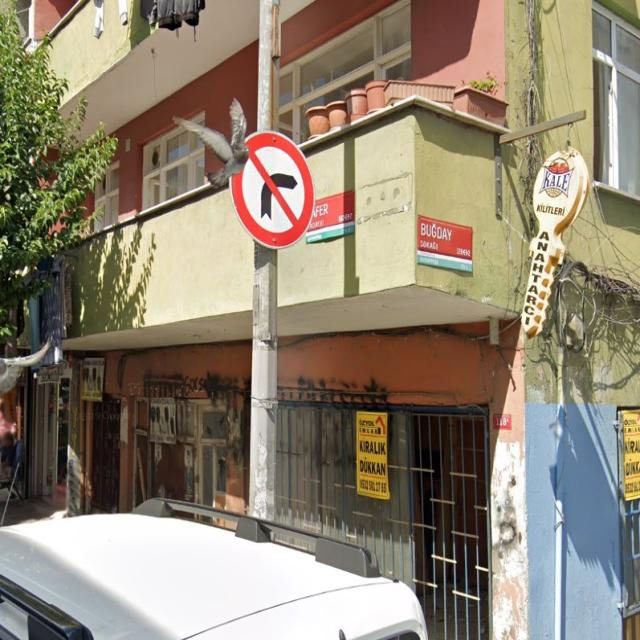sagadonulmez: (230, 131, 316, 249)
